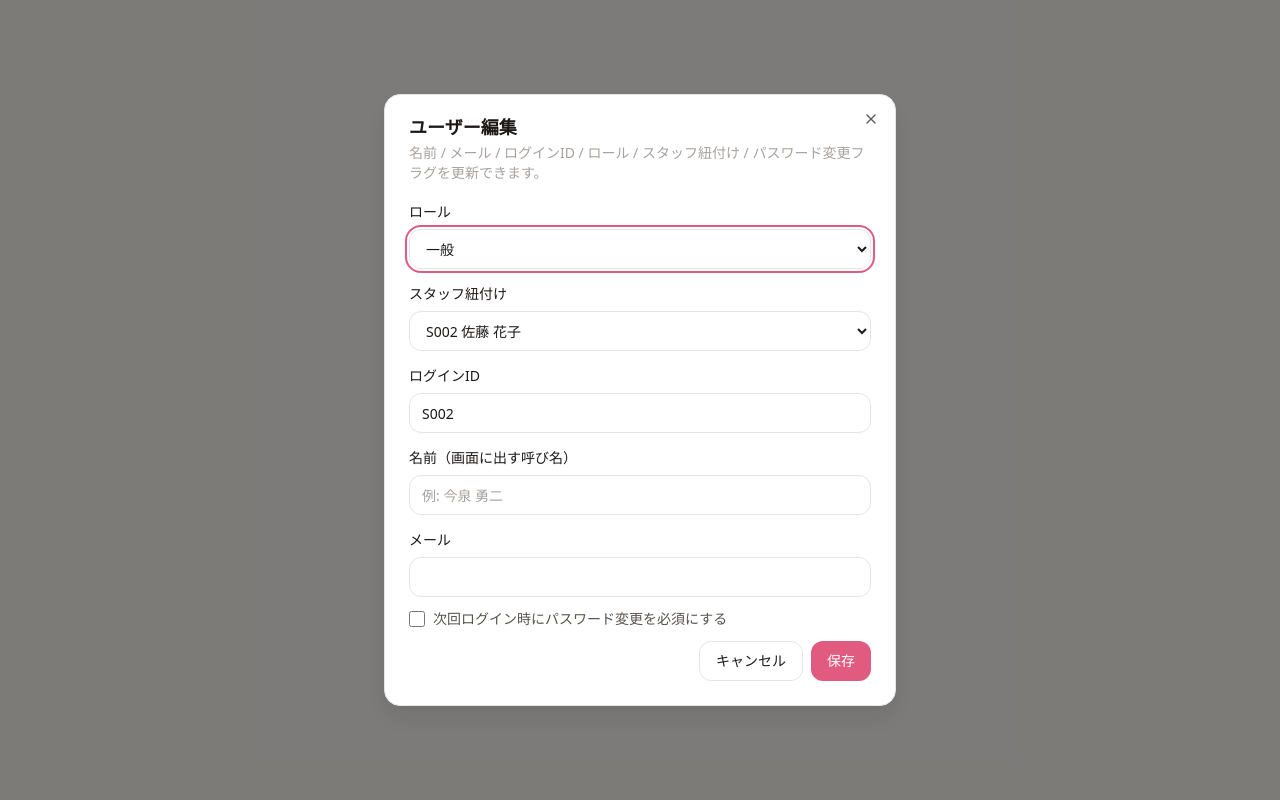
it: UserEditDialog — P2 staff linkage › role change to admin/manager with no email blocks submit and shows message
Select "管理者" in the dropdown labelled "ロール". click: (640, 249)
box: [409,229,871,269]
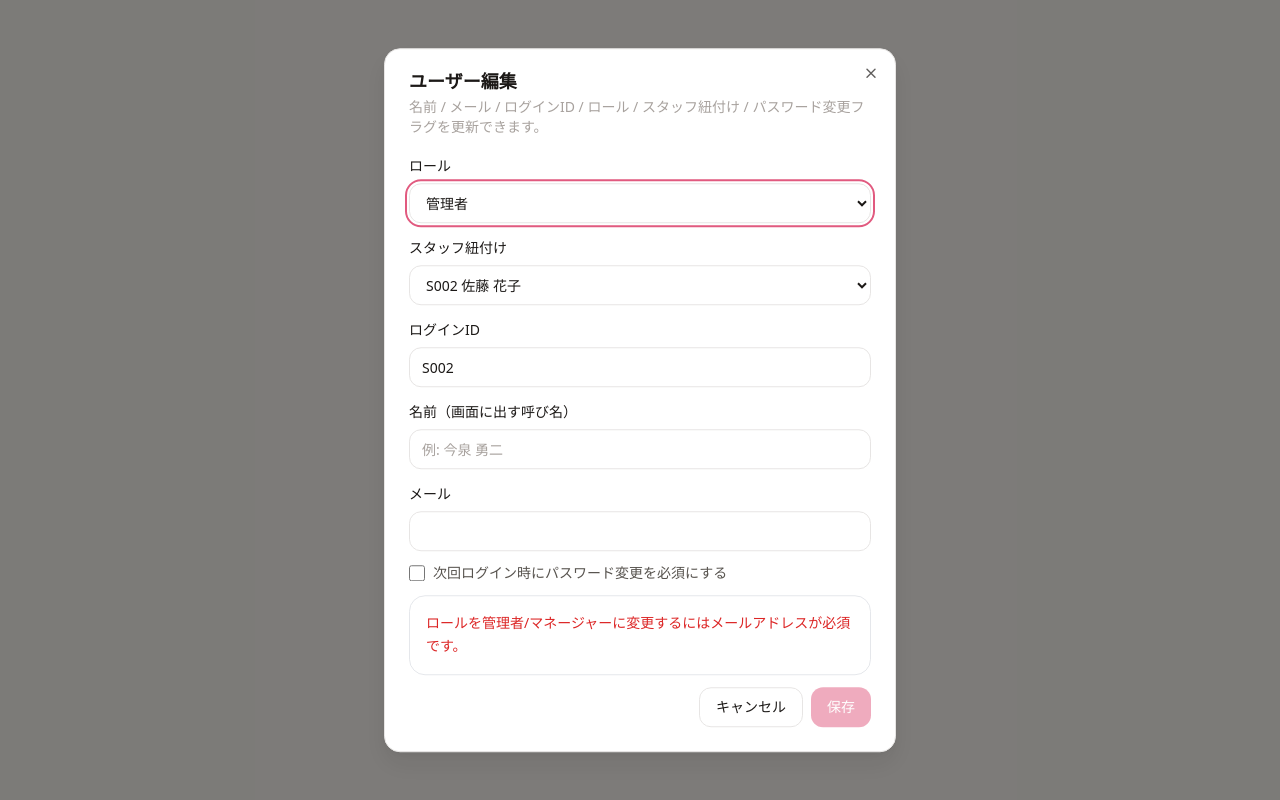
Expected: the text "ロールを管理者/マネージャーに変更するにはメールアドレスが必須です。" is shown, [426,612,854,658]
Expected: the button "保存" is disabled, [811,687,871,727]
